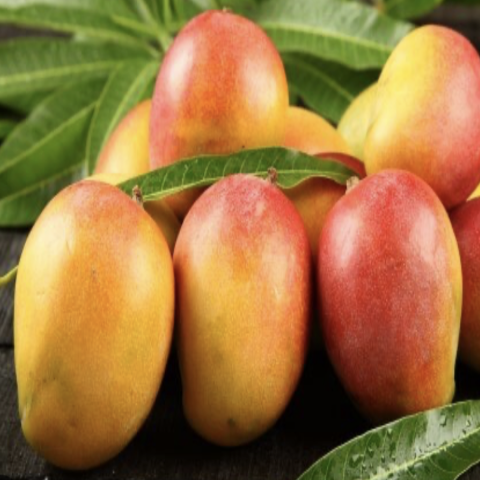mango: (8, 157, 183, 462), (307, 141, 475, 449), (167, 179, 327, 450), (137, 0, 305, 214)
